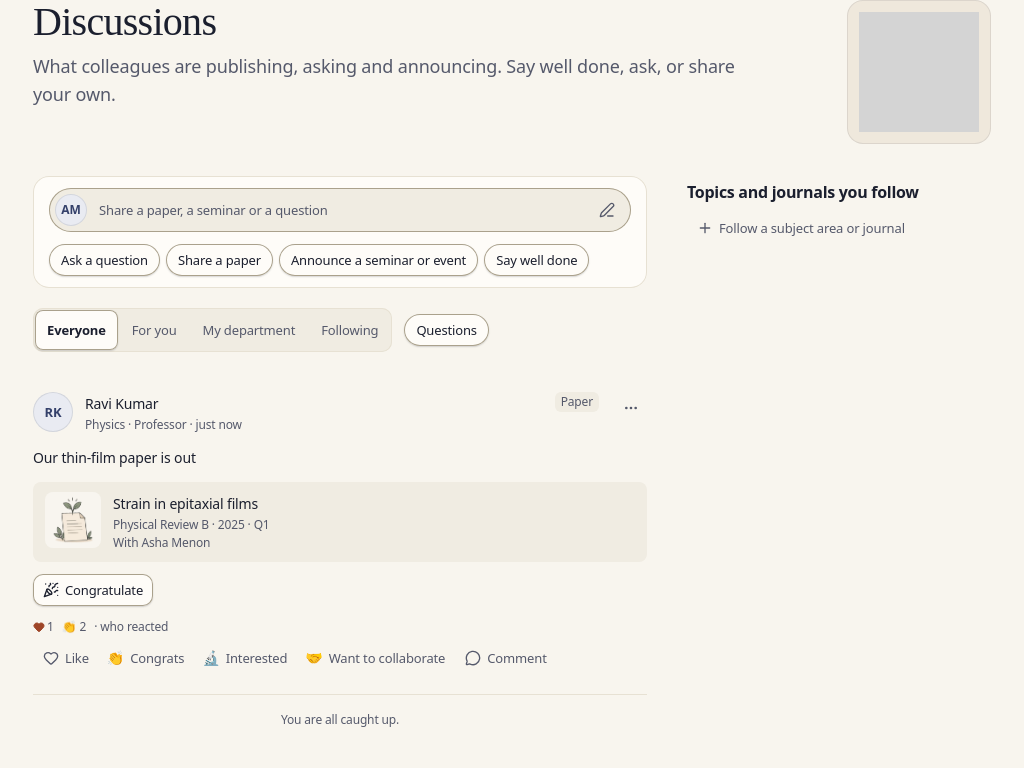
Test case: reactions › lists who reacted, by kind
Click the button with aria-label "3 reactions".
click(101, 627)  # box [33,618,168,636]
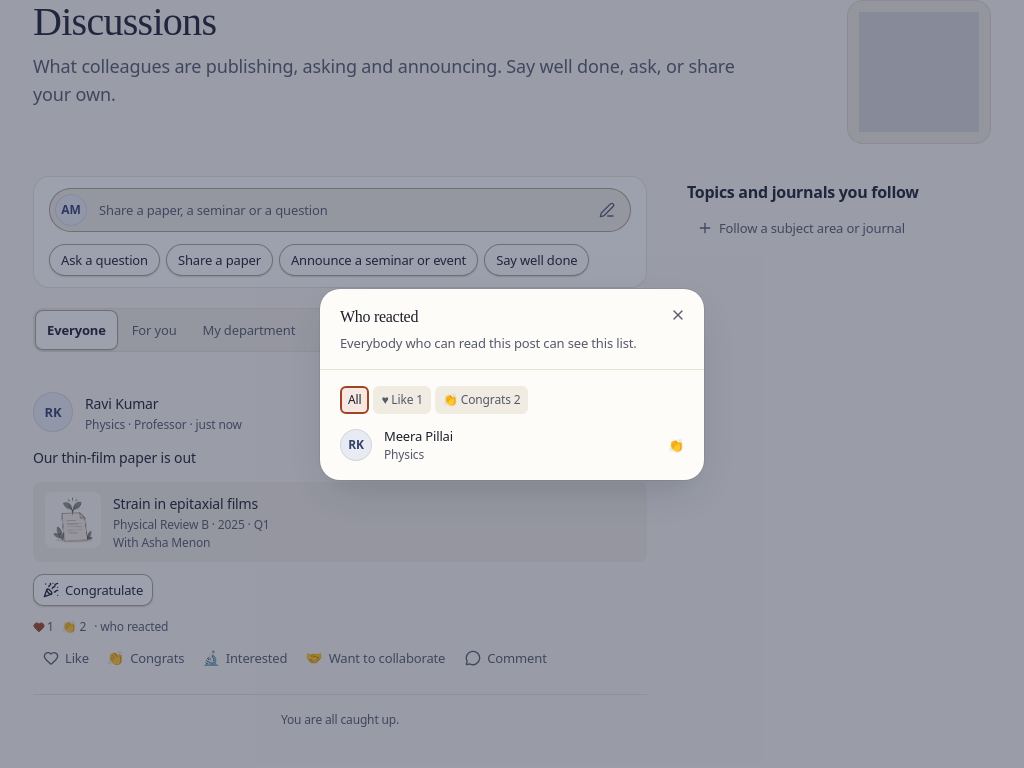
Check: the link "Meera Pillai" is shown, box [384,426,453,444]
